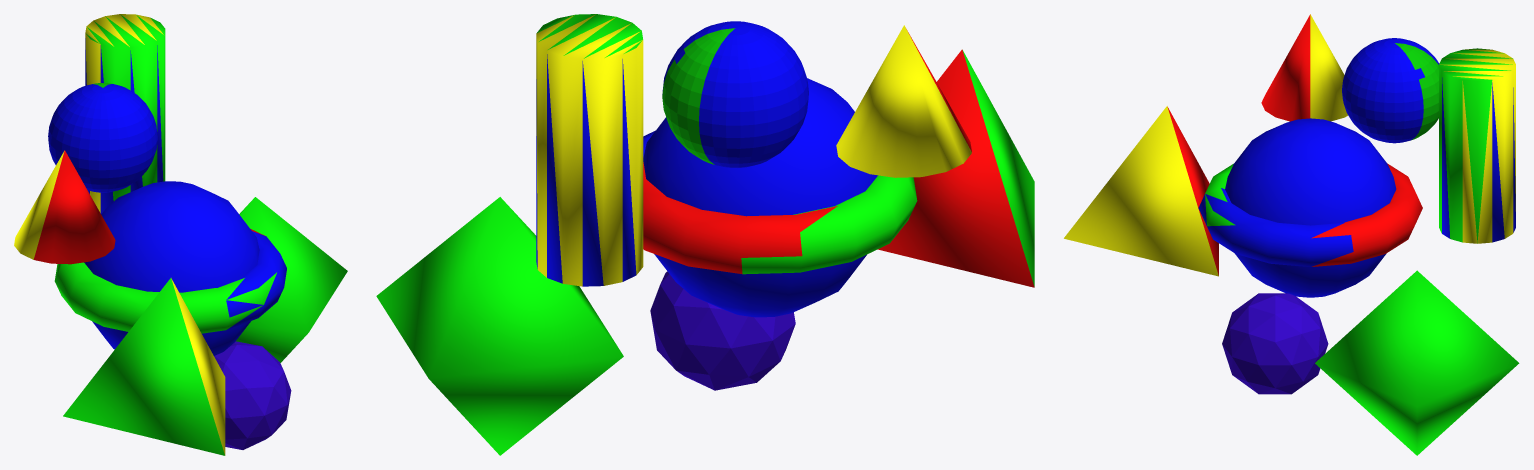
File: big_blender2.obj
3 views of the same model, side by side, from view 1: azimuth 30°, elevation 25°; view 2: azimuth 150°, elevation 25°; view 3: azimuth 270°, elevation 25° (orthographic). The views are drawn at different scales.
Parts seen in each view (by area): view 1: tetrahedron5, sphere6, Sphere.001, Torus3, Cylinder4, octahedron6, cone7, Icosphere; view 2: octahedron6, Cylinder4, sphere6, tetrahedron5, Sphere.001, Torus3, cone7, Icosphere; view 3: octahedron6, sphere6, Cylinder4, tetrahedron5, Torus3, Sphere.001, Icosphere, cone7.
Part boxes in pixels (x1,y1,x2,y2): tetrahedron5: [63, 278, 225, 455]; sphere6: [84, 181, 259, 355]; Sphere.001: [48, 83, 157, 192]; Torus3: [54, 229, 286, 333]; Cylinder4: [85, 14, 165, 214]; octahedron6: [236, 197, 347, 362]; cone7: [14, 150, 115, 264]; Icosphere: [214, 341, 291, 449]; octahedron6: [376, 197, 623, 455]; Cylinder4: [536, 14, 643, 286]; sphere6: [643, 78, 877, 317]; tetrahedron5: [877, 49, 1034, 287]; Sphere.001: [662, 21, 808, 167]; Torus3: [643, 130, 917, 274]; cone7: [836, 25, 971, 177]; Icosphere: [650, 271, 795, 390]; octahedron6: [1315, 270, 1519, 455]; sphere6: [1225, 118, 1396, 297]; Cylinder4: [1439, 48, 1515, 243]; tetrahedron5: [1064, 106, 1218, 276]; Torus3: [1198, 163, 1422, 266]; Sphere.001: [1342, 38, 1439, 143]; Icosphere: [1222, 293, 1328, 394]; cone7: [1261, 14, 1348, 121].
Bounding box in the file's own units: 4.79 × 4.24 × 5.08.
